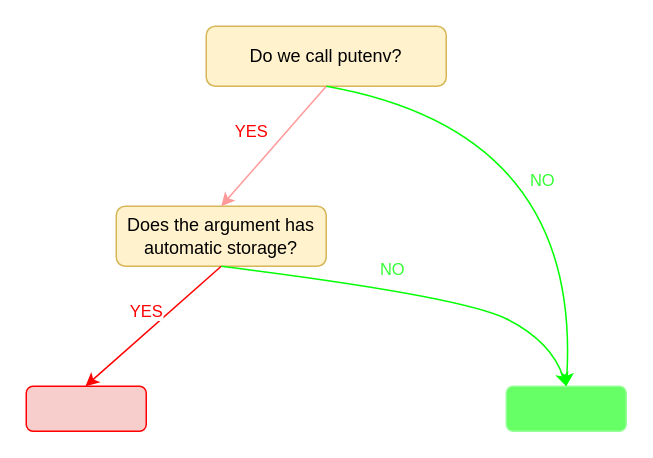
Image size: 653x458. Some labels were removed from this diagram. Each missing label, with the box of its shape:
Report Bug: (25, 385, 146, 431)
Stop Checker: (505, 385, 626, 431)
